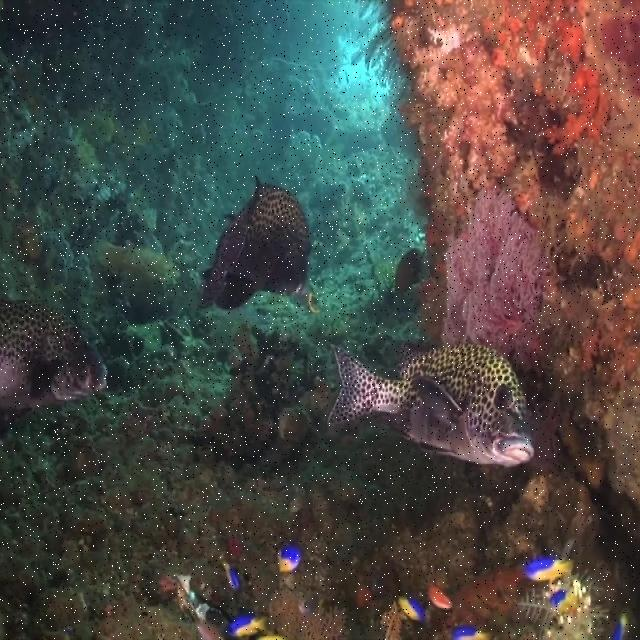aquatic plants: (367, 1, 638, 497)
fish: (321, 345, 533, 465), (202, 187, 320, 305), (0, 293, 108, 405)
